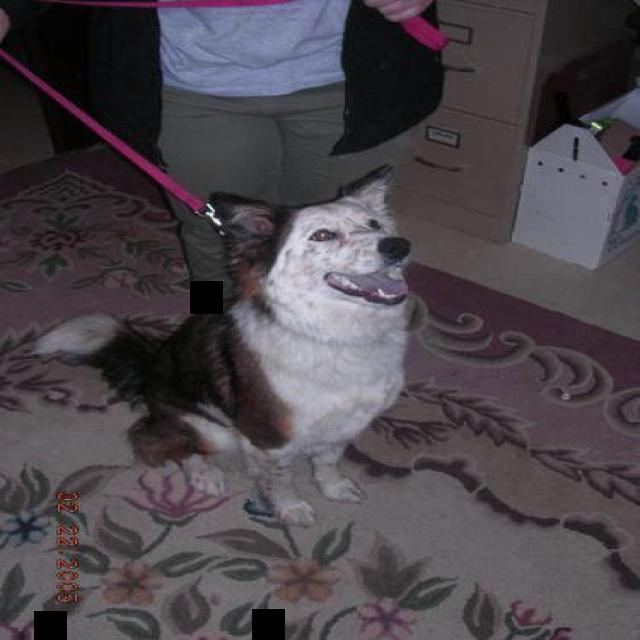adult_dog: (24, 158, 419, 531)
